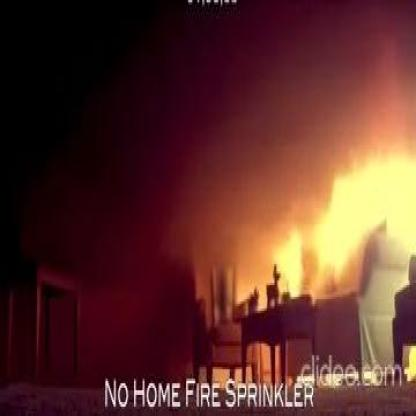fire: (312, 150, 416, 250), (313, 161, 361, 276), (278, 229, 304, 297)
